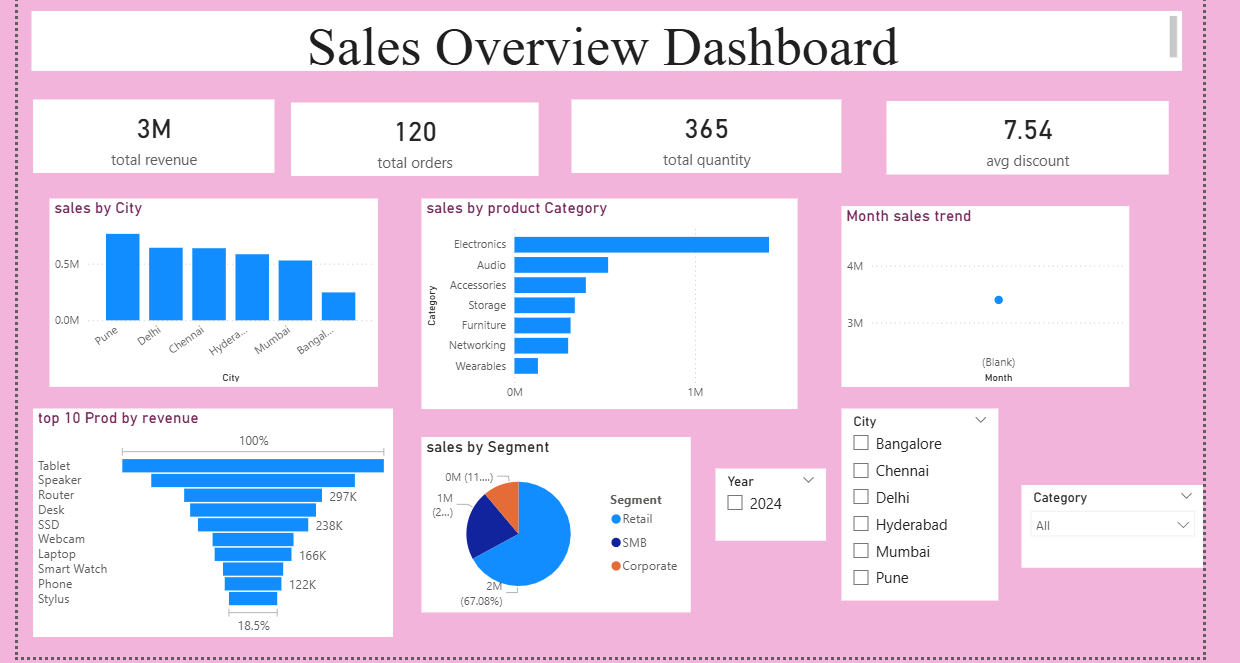

This screenshot's page, from the dashboard's own definition file:
{"tool":"powerbi","page":{"name":"Page 1","canvas":[1280,720],"ordinal":0},"visuals":[{"type":"card","fields":{"Values":["fact_sales.total amount"]},"box":[16.2,118.2,260.7,79.3],"z":0},{"type":"card","fields":{"Values":["fact_sales.total order"]},"box":[294.7,121.4,267.2,79.3],"z":1000},{"type":"card","fields":{"Values":["fact_sales.total quantity"]},"box":[597.5,118.2,291.5,79.3],"z":2000},{"type":"card","fields":{"Values":["fact_sales.avg discount"]},"box":[937.5,119.8,304.4,79.3],"z":3000},{"type":"columnChart","title":"sales by City","fields":{"Category":["stores.City"],"Y":["fact_sales.total amount"]},"box":[33.9,225.1,354.5,203.2],"z":4000},{"type":"barChart","title":"sales by product Category","fields":{"Category":["products.Category"],"Y":["fact_sales.total revenue"]},"box":[436.2,225.1,406.3,227.1],"z":5000},{"type":"lineChart","title":" Month sales trend","fields":{"Category":["date_dim.Month"],"Y":["fact_sales.total amount"]},"box":[888.3,233,310.7,195.2],"z":6000},{"type":"funnel","title":"top 10  Prod by revenue","fields":{"Category":["products.ProductName"],"Y":["fact_sales.total amount"]},"box":[15.9,452.1,388.4,247],"z":7000},{"type":"pieChart","title":"sales by Segment","fields":{"Category":["customers.Segment"],"Y":["fact_sales.total revenue"]},"box":[436.2,482,290.8,189.2],"z":8000},{"type":"slicer","fields":{"Values":["stores.City"]},"box":[888.3,452.1,169.3,207.1],"z":9000},{"type":"slicer","fields":{"Values":["products.Category"]},"box":[1083.5,533.8,197.2,89.6],"z":10000},{"type":"slicer","fields":{"Values":["date_dim.Year"]},"box":[752.9,515.9,119.5,77.7],"z":11000},{"type":"textbox","box":[14.6,22.7,1241.9,64.8],"z":12000}]}

Visuals, with their boxes on the page's 1280x720 design canvas (x1, y1, x2, y2). These are canvas units, not pixel positions in the 1240x663 screenshot, which may show the page scaled, cropped or inside an application window:
card - fact_sales.total amount: select_region(16, 118, 277, 198)
card - fact_sales.total order: select_region(295, 121, 562, 201)
card - fact_sales.total quantity: select_region(598, 118, 889, 198)
card - fact_sales.avg discount: select_region(938, 120, 1242, 199)
"sales by City" columnChart: select_region(34, 225, 388, 428)
"sales by product Category" barChart: select_region(436, 225, 842, 452)
" Month sales trend" lineChart: select_region(888, 233, 1199, 428)
"top 10  Prod by revenue" funnel: select_region(16, 452, 404, 699)
"sales by Segment" pieChart: select_region(436, 482, 727, 671)
slicer - stores.City: select_region(888, 452, 1058, 659)
slicer - products.Category: select_region(1084, 534, 1281, 623)
slicer - date_dim.Year: select_region(753, 516, 872, 594)
textbox: select_region(15, 23, 1256, 88)
